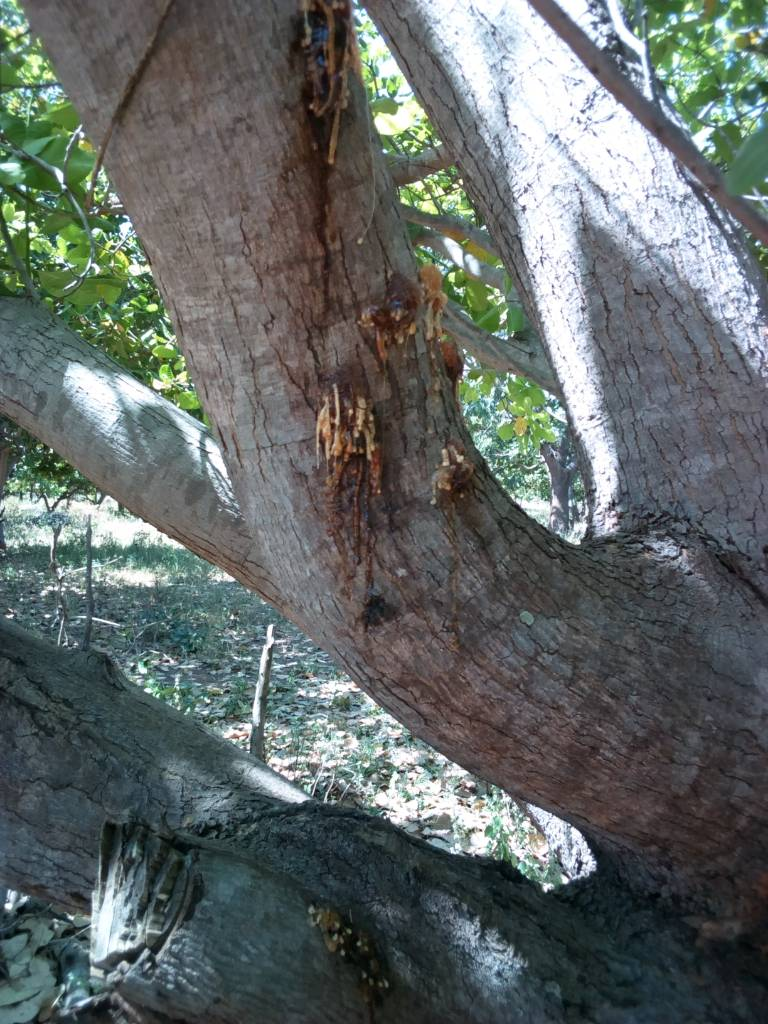Gommose: (304, 380, 422, 592), (286, 5, 360, 300), (374, 277, 447, 346)
